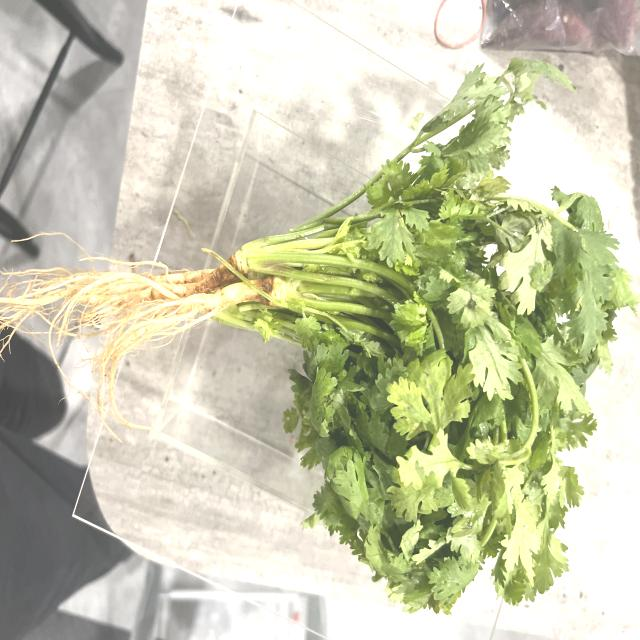cilantro: (226, 67, 617, 582)
